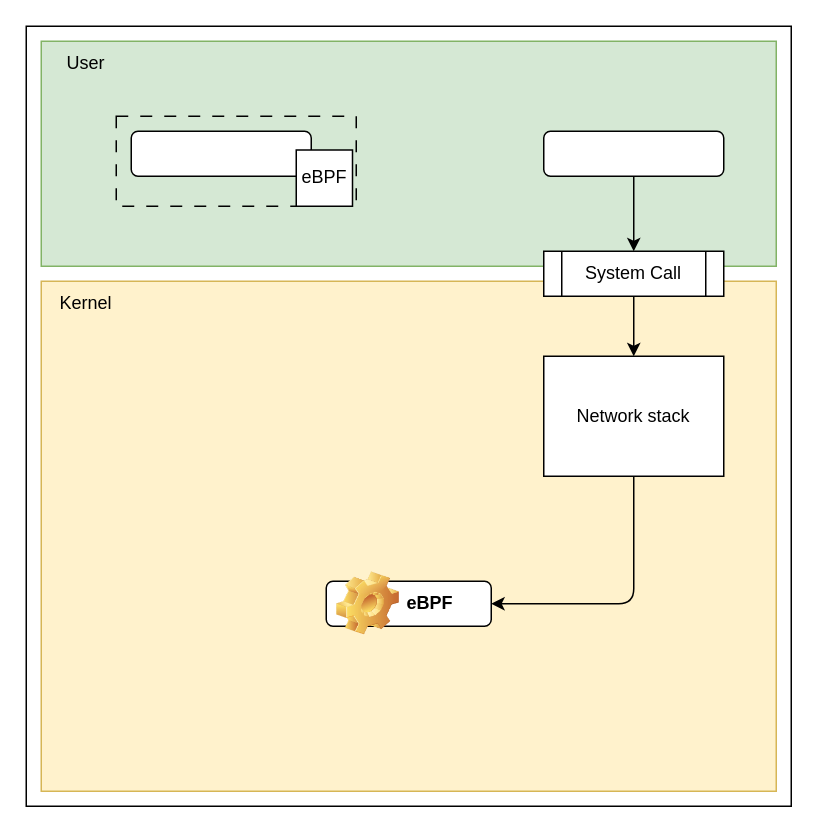
This 818x833 diagram has some shape labels left out. Each missing label, with the centre of its shape:
"App" goes at point 220,153.
"Other App" goes at point 633,153.
